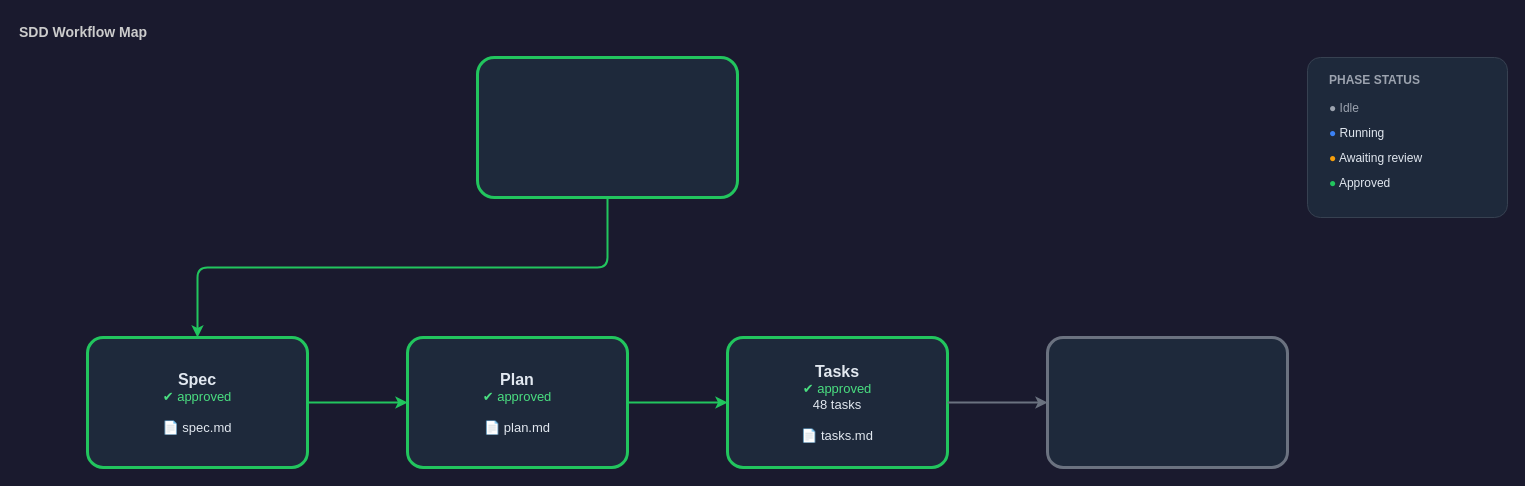
This 1525x486 diagram has some shape labels left out. The centre of each missing label's shape, as x and y in pixels:
Constitution ✔ approved 📄 constitution.md: pixel 607 127
Implementation ○ idle 44/48 tasks: pixel 1167 402
